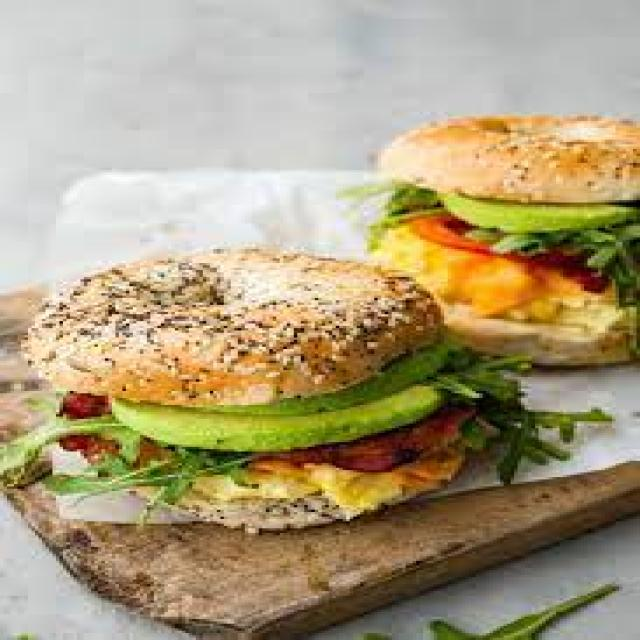Bagel: (23, 247, 441, 406), (381, 119, 639, 203)
